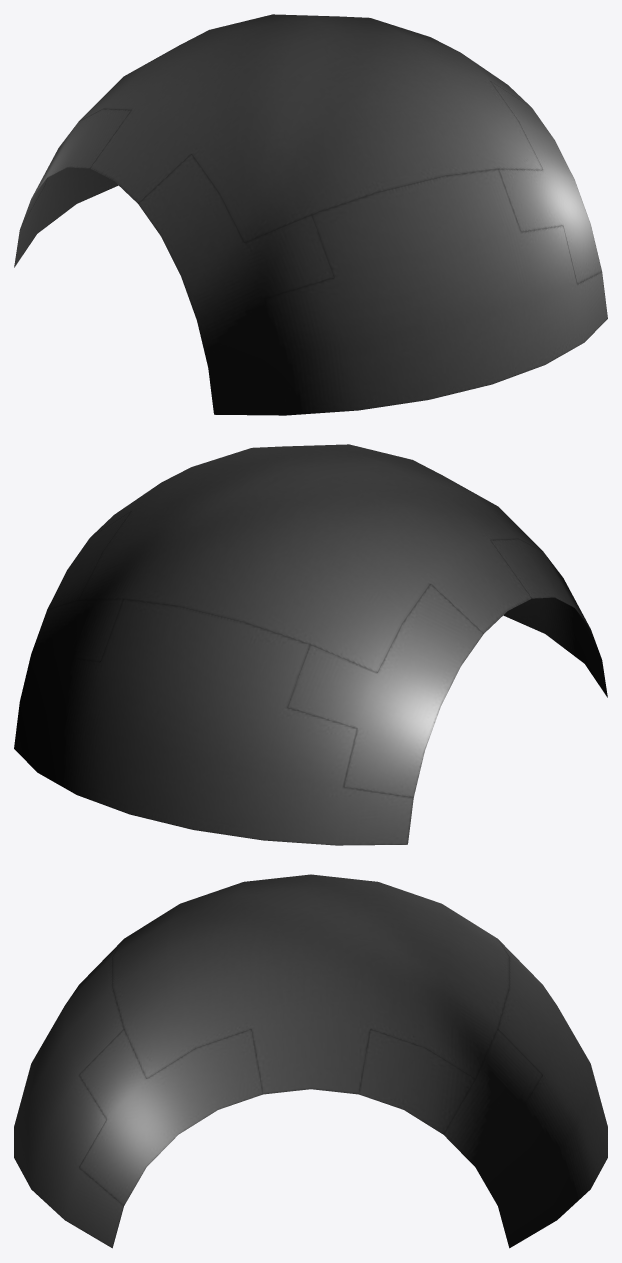
File: dome.obj
3 renders of one model, top to bottom at view 1: azimuth 30°, elevation 25°; view 2: azimuth 150°, elevation 25°; view 3: azimuth 270°, elevation 25°, orthographic.
Visible parts, largest first — view 1: HoverBlaster; view 2: HoverBlaster; view 3: HoverBlaster.
Boxes of the visible parts, x1,y1,x2,y2 form: HoverBlaster: [14, 14, 607, 415]; HoverBlaster: [14, 444, 607, 845]; HoverBlaster: [14, 874, 607, 1248].
Bounding box in the file's own units: 180 × 110 × 237.
Materials: 1 (1 with a texture image).
